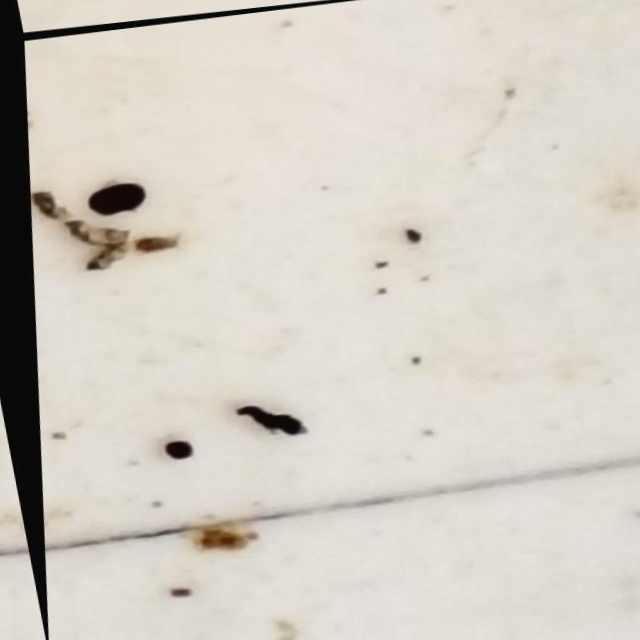varroa: (74, 176, 138, 216), (158, 435, 194, 462)
